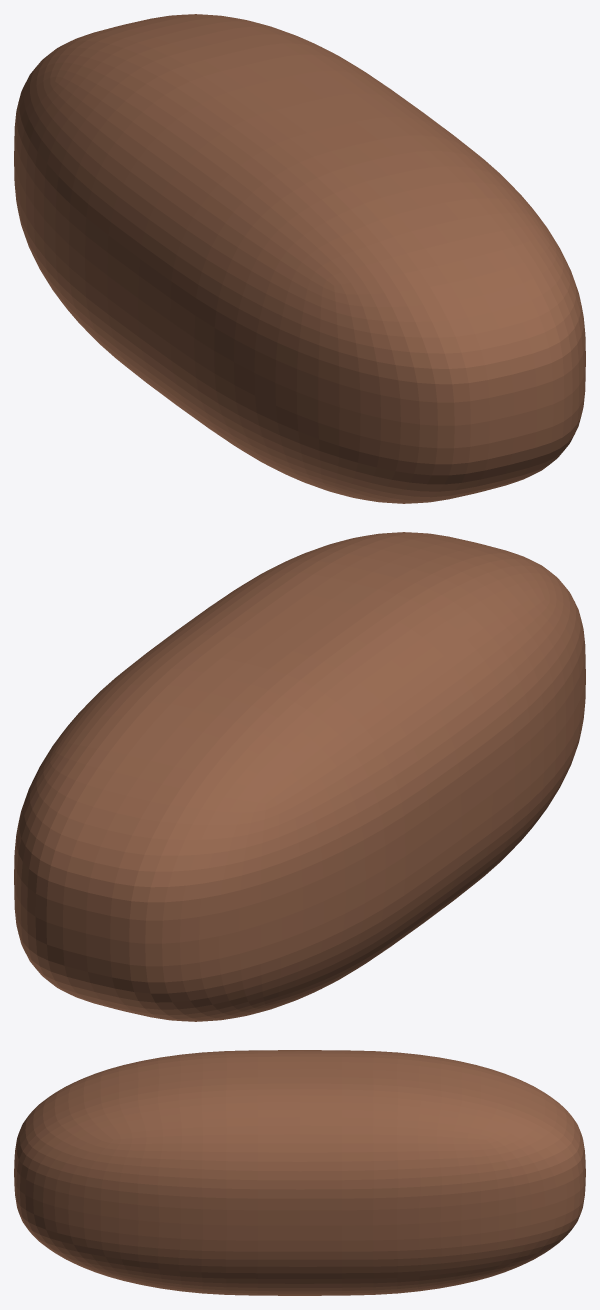
Rendered from SüßKartoffel.fbx.
3 renders of one model, top to bottom at view 1: azimuth 30°, elevation 25°; view 2: azimuth 150°, elevation 25°; view 3: azimuth 270°, elevation 25°, orthographic. The views are drawn at different scales.
Visible parts, largest first — view 1: Cube; view 2: Cube; view 3: Cube.
Part boxes in pixels (box(x1,y1,x2,y2)): Cube: box(14, 14, 585, 503); Cube: box(14, 532, 585, 1021); Cube: box(14, 1050, 585, 1295).
Bounding box in the file's own units: 23.97 × 21.97 × 54.93.
